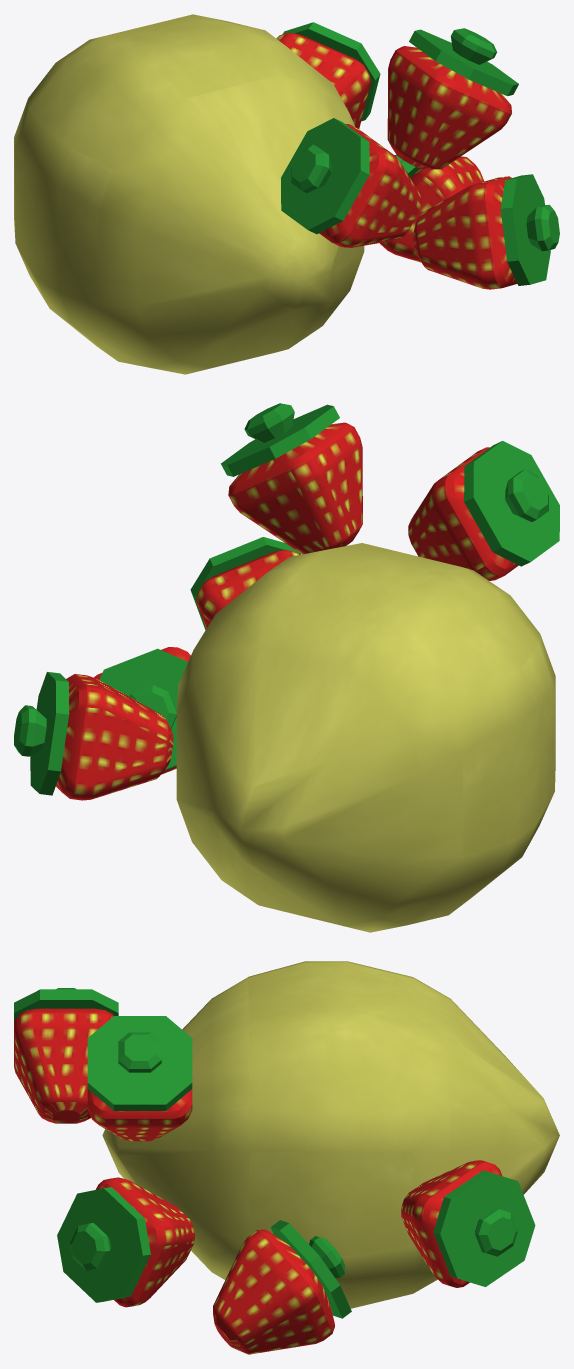
The model's file is Frutas.fbx.
3 renders of one model, top to bottom at view 1: azimuth 30°, elevation 25°; view 2: azimuth 150°, elevation 25°; view 3: azimuth 270°, elevation 25°, orthographic. The views are drawn at different scales.
Parts seen in each view (by area): view 1: pCube1, pCube4, pCube14, pCube15, pCube16, pCube17; view 2: pCube1, pCube4, pCube16, pCube14, pCube15, pCube17; view 3: pCube1, pCube17, pCube15, pCube16, pCube4, pCube14.
Part boxes in pixels (box(x1,y1,x2,y2)): pCube1: box(14, 14, 364, 374); pCube4: box(387, 28, 518, 169); pCube14: box(281, 118, 421, 247); pCube15: box(413, 174, 559, 289); pCube16: box(276, 22, 380, 128); pCube17: box(379, 154, 484, 262); pCube1: box(176, 543, 555, 932); pCube4: box(221, 403, 362, 554); pCube16: box(14, 672, 173, 800); pCube14: box(408, 441, 559, 580); pCube15: box(190, 537, 301, 629); pCube17: box(94, 647, 190, 774); pCube1: box(102, 961, 559, 1308); pCube17: box(213, 1220, 351, 1354); pCube15: box(57, 1177, 195, 1307); pCube16: box(401, 1160, 535, 1287); pCube4: box(87, 1016, 192, 1141); pCube14: box(14, 988, 118, 1123).
Size of the model in its own units: 1.64 by 1.28 by 1.9.
Materials: 1 (1 with a texture image).
